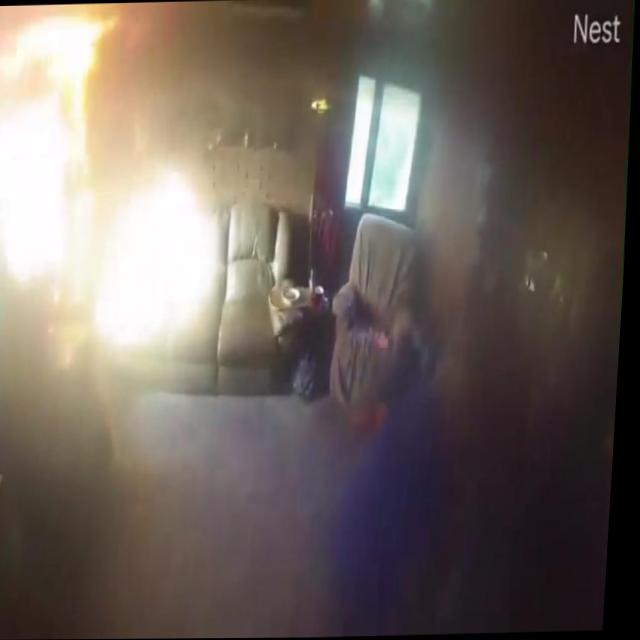fire: (0, 3, 111, 92)
